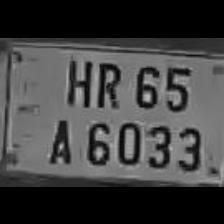0: (113, 116, 141, 164)
3: (144, 116, 173, 168), (172, 120, 202, 170)
5: (162, 58, 192, 110)
6: (128, 58, 160, 108), (80, 117, 110, 165)
A: (44, 112, 72, 164)
H: (58, 52, 94, 106)
R: (92, 55, 122, 108)
